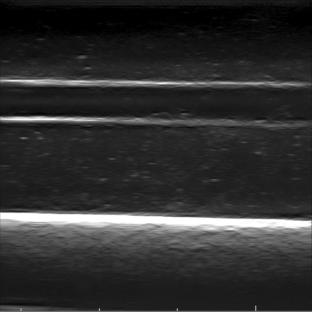vessel: (3, 79, 309, 128)
